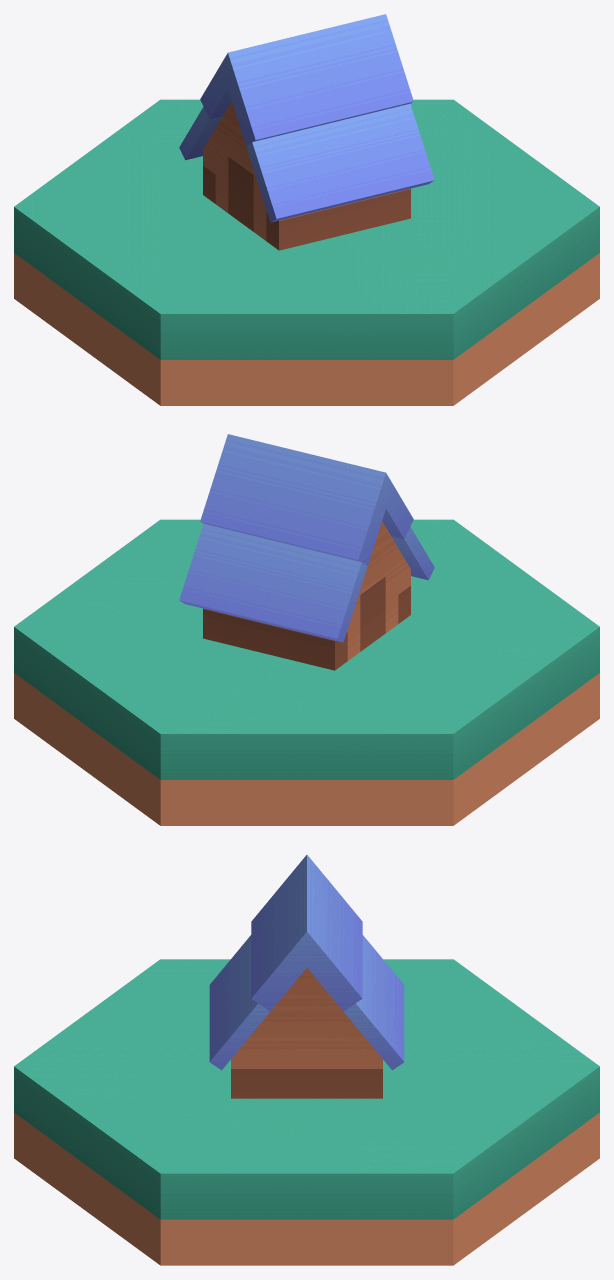
The model's file is grass-house.glb.
The picture shows the model from 3 angles, top to bottom: view 1: azimuth 30°, elevation 25°; view 2: azimuth 150°, elevation 25°; view 3: azimuth 270°, elevation 25°; orthographic projection.
Visible parts, largest first — view 1: grass, unit-house; view 2: grass, unit-house; view 3: grass, unit-house.
Boxes of the visible parts, box(x1,y1,x2,y2) form: grass: box(14, 99, 599, 405); unit-house: box(179, 14, 434, 250); grass: box(14, 519, 599, 825); unit-house: box(179, 434, 434, 670); grass: box(14, 959, 599, 1265); unit-house: box(209, 855, 404, 1098).
Size of the model in its own units: 1 by 0.5771 by 1.15.
Materials: 1 (1 with a texture image).
